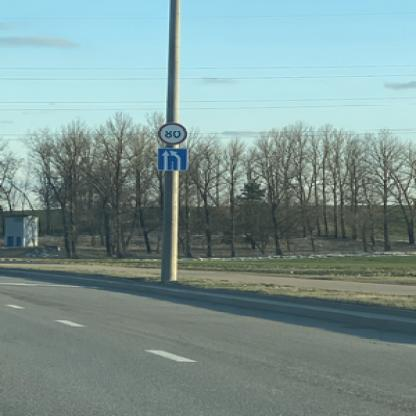Speed Limit 80: (158, 120, 186, 146)
